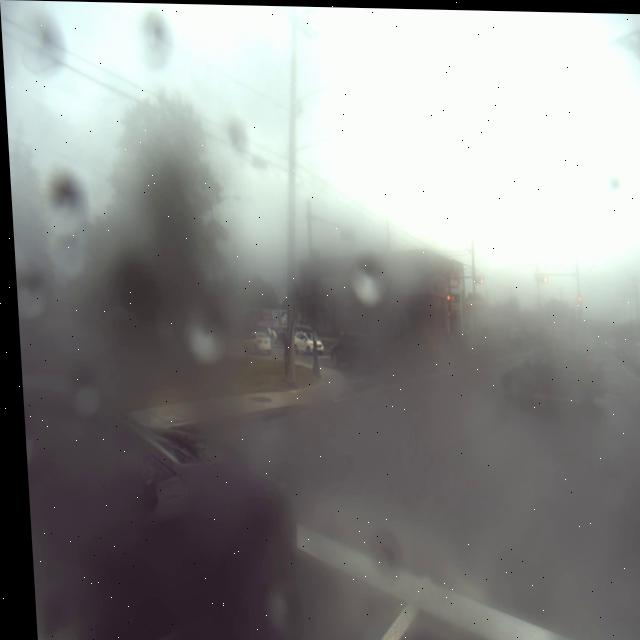car: (488, 342, 602, 400)
